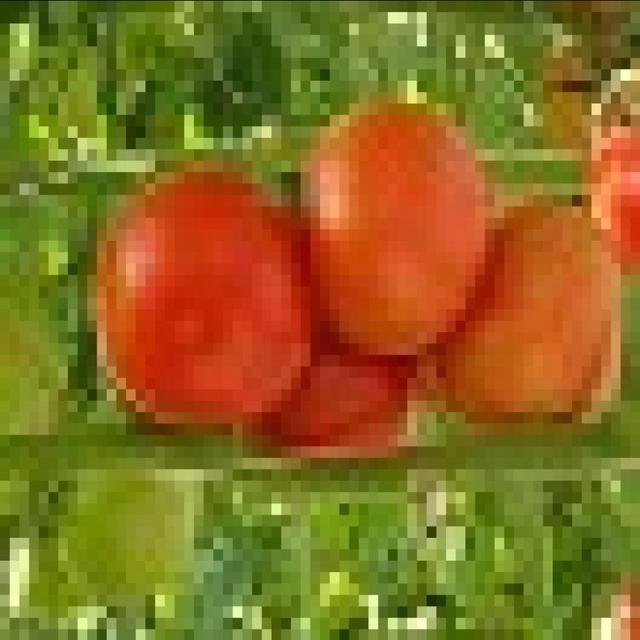Healthy Fruit: (120, 144, 353, 200)
